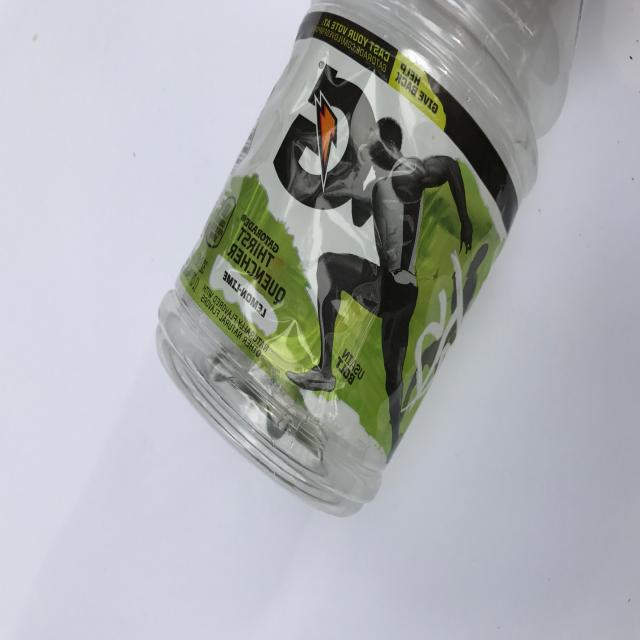plastic: (155, 0, 586, 518)
